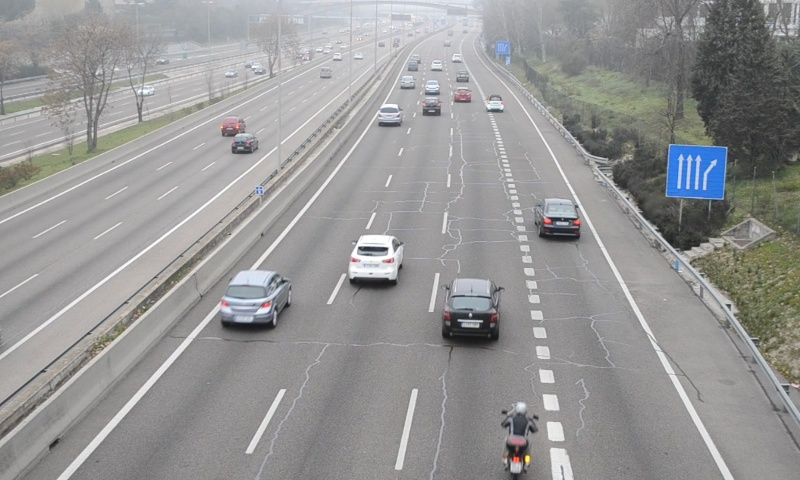car: (219, 270, 291, 328), (442, 280, 500, 341), (348, 234, 404, 286), (534, 198, 580, 238), (377, 104, 403, 127), (422, 96, 442, 116), (485, 92, 504, 113), (454, 86, 472, 104), (424, 79, 441, 96), (399, 75, 416, 90)
motorcycle: (498, 402, 541, 480)
